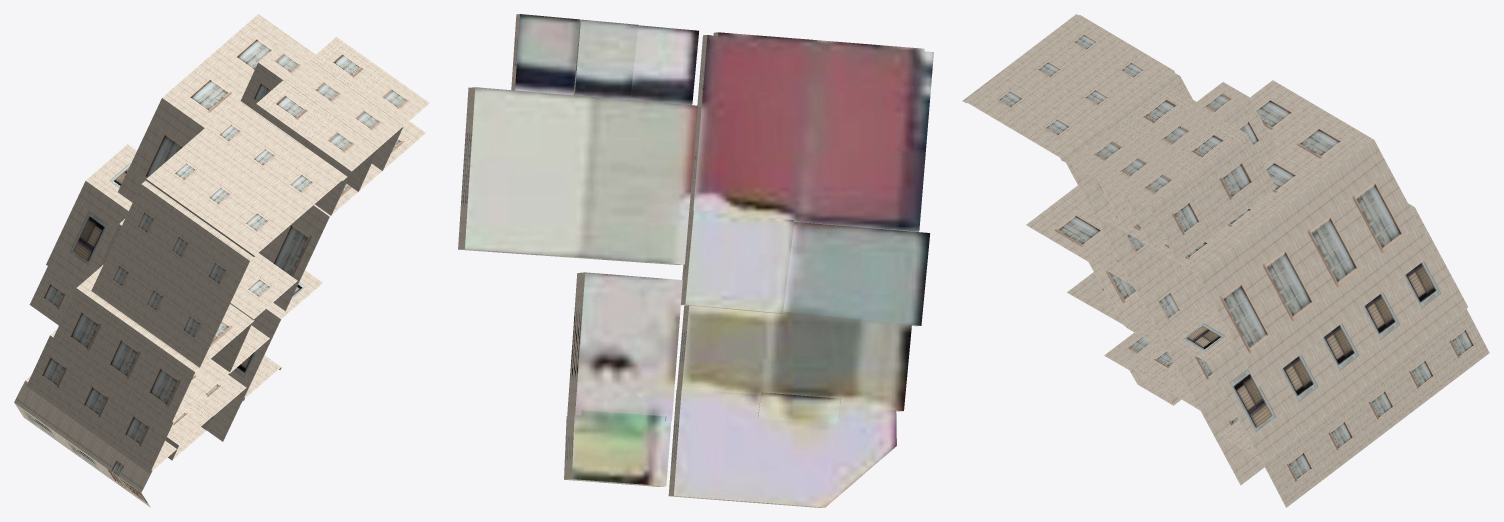
3 renders of one model, left to right at view 1: azimuth 30°, elevation 25°; view 2: azimuth 150°, elevation 25°; view 3: azimuth 270°, elevation 25°, orthographic. The views are drawn at different scales.
Size of the model in its own units: 29.44 by 29.02 by 31.78.
Materials: 34 (34 with a texture image).
